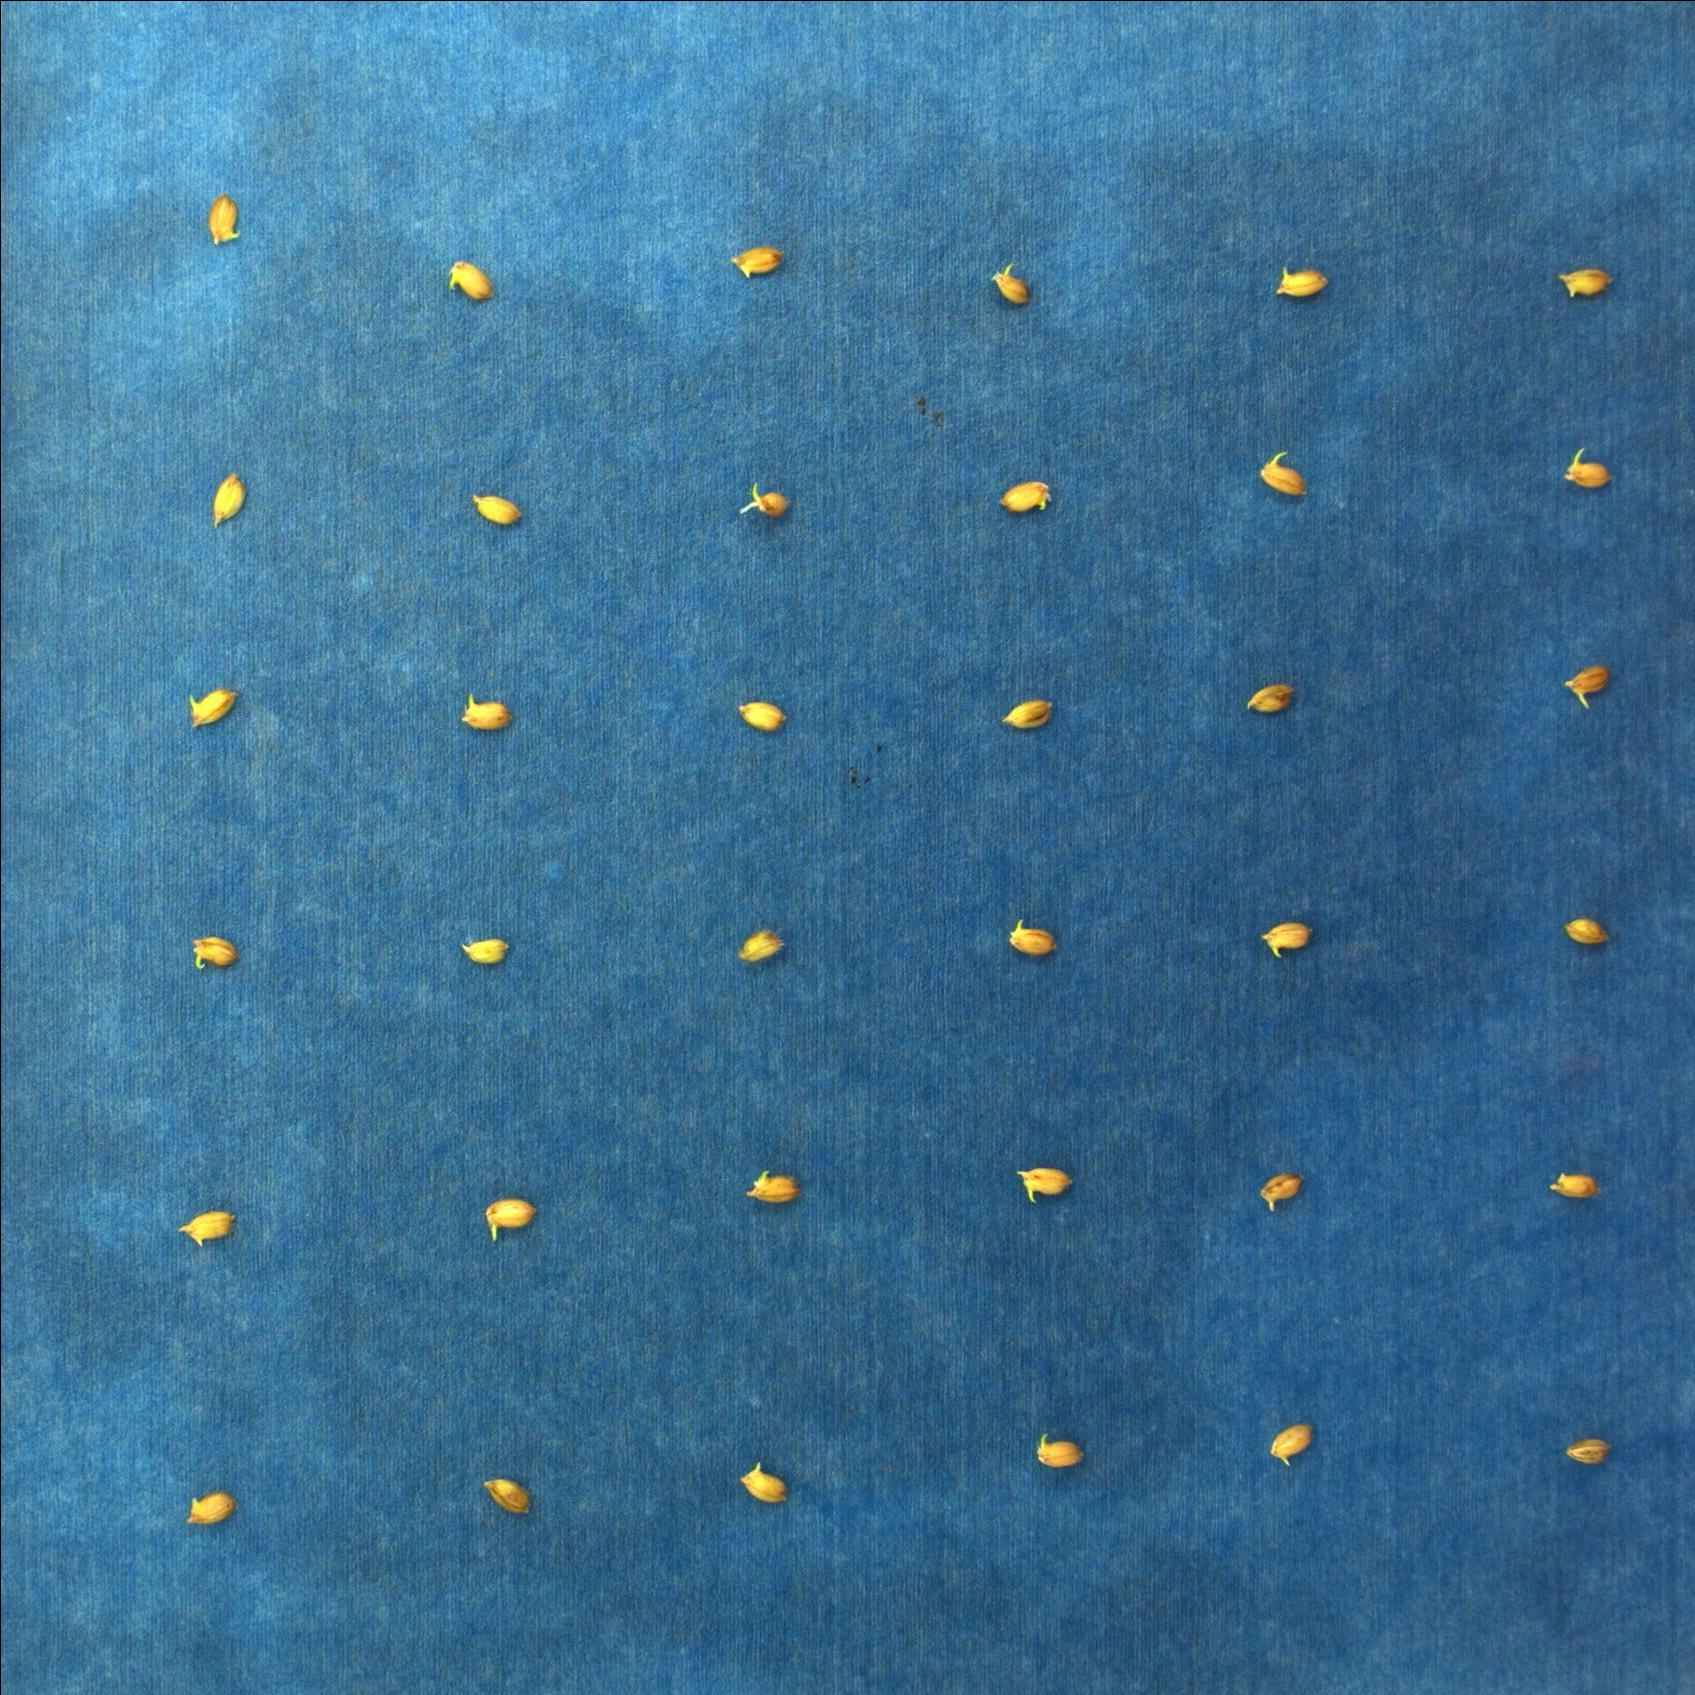not sprout: (737, 1461, 798, 1507), (1257, 449, 1313, 498), (186, 685, 241, 730), (456, 692, 515, 733), (177, 1208, 237, 1246), (1017, 1166, 1077, 1205), (1271, 259, 1329, 300), (1268, 1420, 1316, 1468), (1563, 664, 1613, 711), (486, 1198, 539, 1242), (745, 1167, 806, 1205), (211, 469, 248, 528), (1007, 917, 1062, 958), (445, 259, 494, 303), (483, 1478, 536, 1516), (189, 934, 242, 972), (1035, 1434, 1093, 1468), (1257, 1172, 1305, 1212), (206, 192, 242, 247), (472, 490, 526, 526), (1259, 920, 1313, 956), (186, 1492, 241, 1527), (730, 245, 789, 278), (1001, 698, 1057, 733), (990, 261, 1034, 304), (1566, 445, 1611, 487), (998, 480, 1055, 512), (739, 927, 784, 965), (1558, 269, 1613, 300), (737, 700, 789, 733), (1548, 1172, 1600, 1200), (1246, 685, 1296, 714), (459, 938, 511, 965), (1565, 1437, 1611, 1467), (1565, 917, 1613, 945)
sprout: (736, 480, 793, 522)
